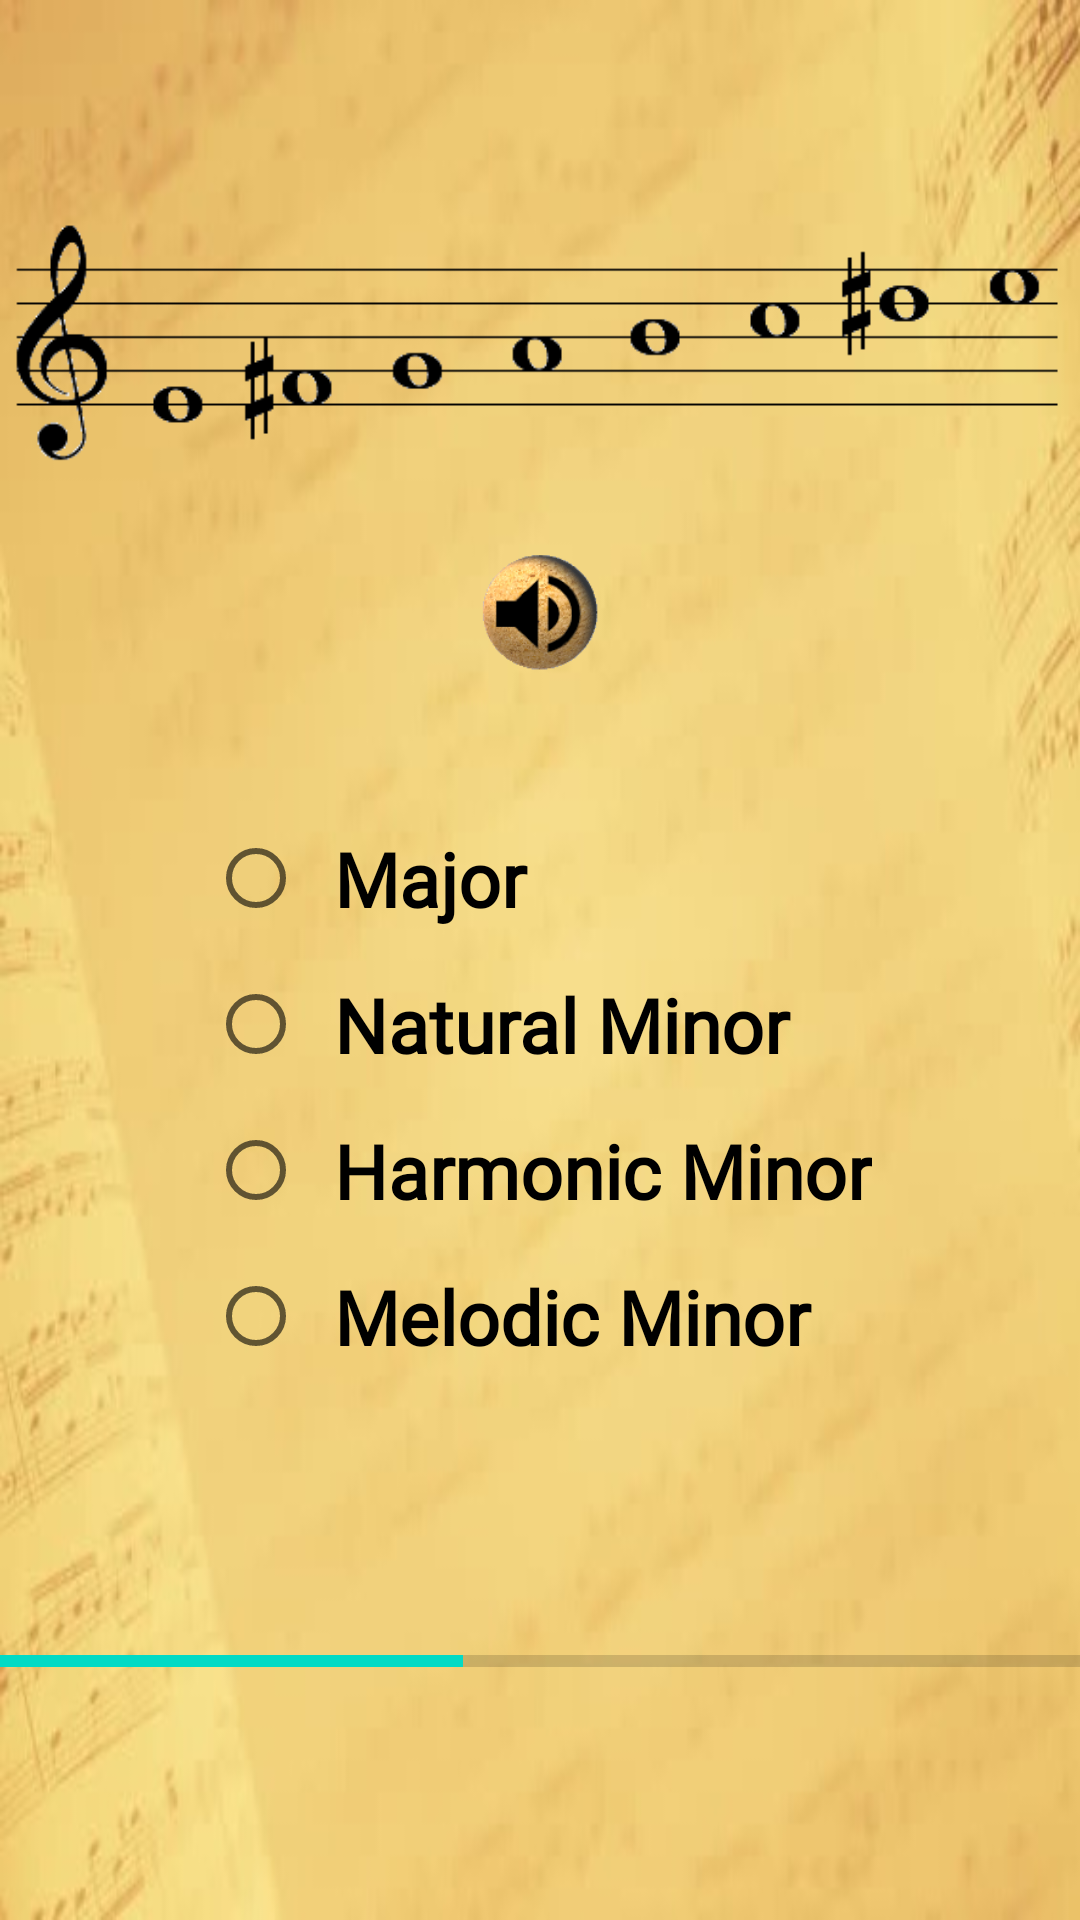

Icon bounding boxes for this 1080px×1920px phone screenshot, format (x1, y1, x2, y2):
sound: (483, 555, 598, 670)
